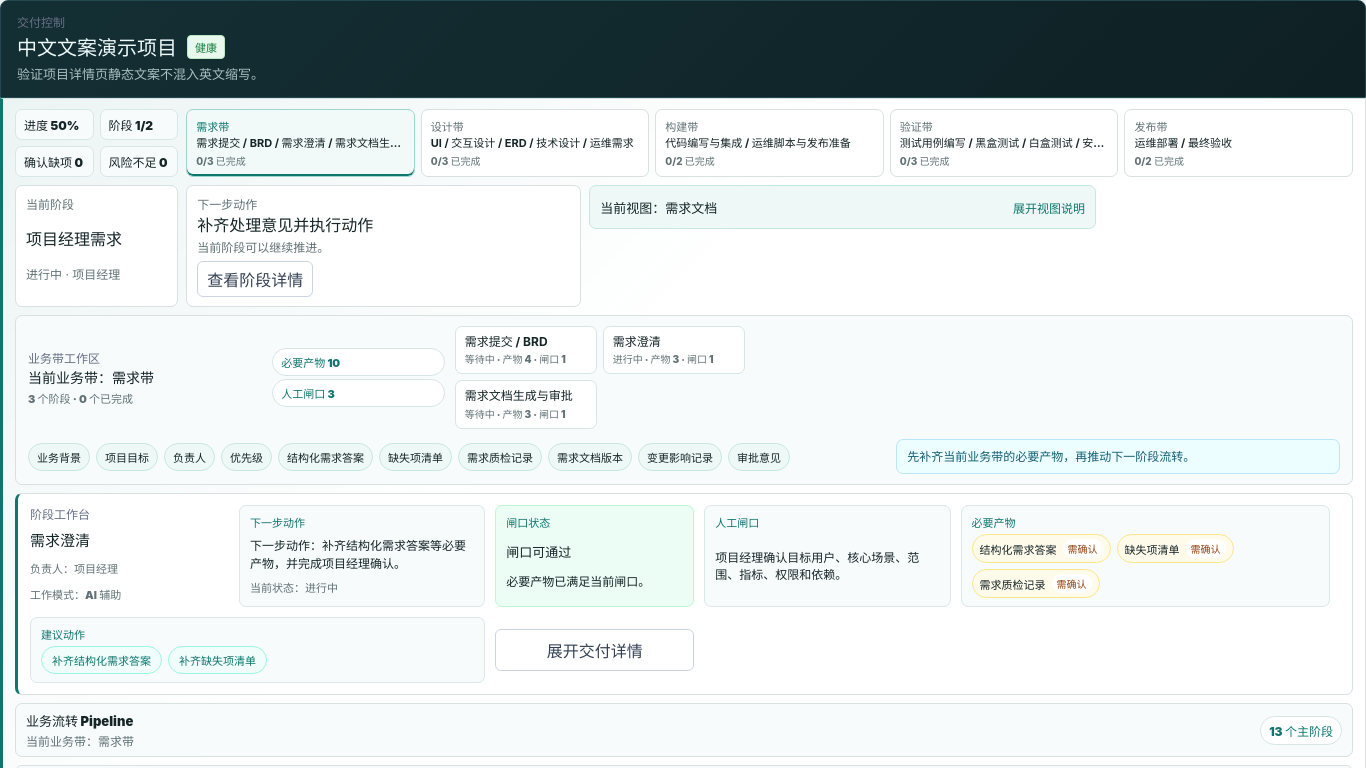
Test case: ProjectWorkspace › uses Chinese product terms in requirement navigation and summaries
Expected: the text "当前视图：需求文档" is shown, [600,200,717,216]
Expected: the text "关联阶段：项目经理需求" is not shown
Click the text "展开视图说明" at point(1049, 207), box [1013,199,1085,216]
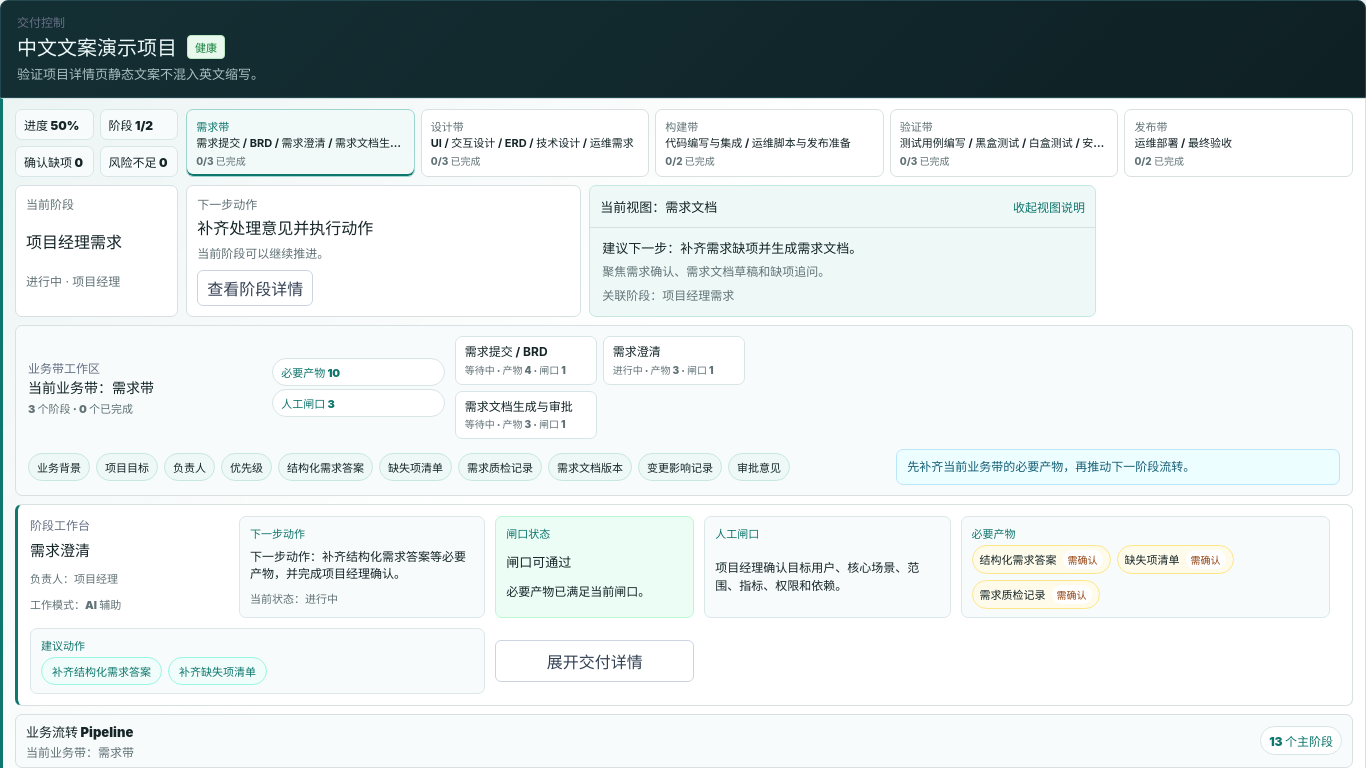
Expected: the text "建议下一步：补齐需求缺项并生成需求文档。" is shown, [602,240,862,256]
Expected: the text "聚焦需求确认、需求文档草稿和缺项追问。" is shown, [602,264,830,279]
Expected: the text "关联阶段：项目经理需求" is shown, [602,288,734,303]
